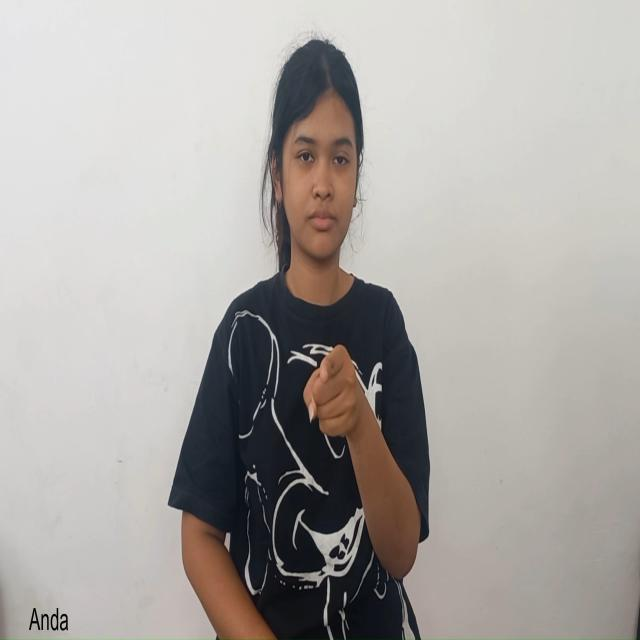Anda -BISINDO-: (278, 311, 404, 499)
